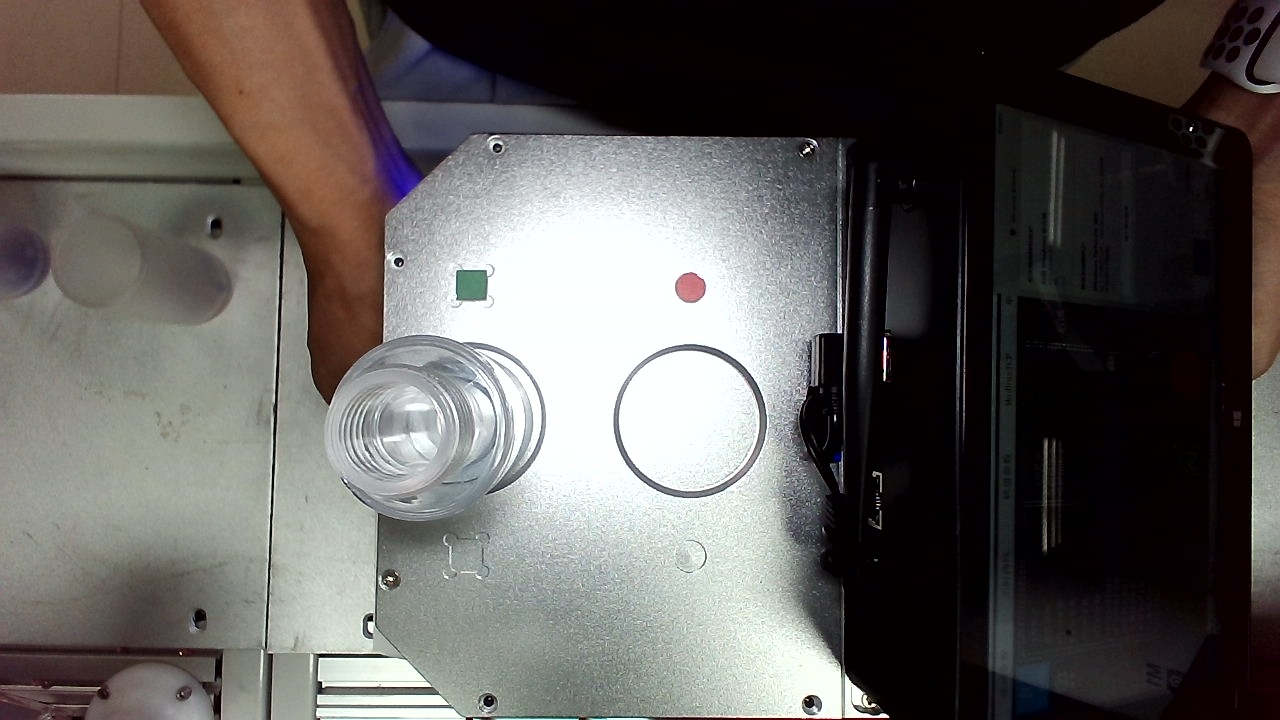bad: (254, 611, 307, 655), (285, 108, 336, 152), (772, 477, 823, 519), (836, 513, 882, 554), (259, 169, 306, 209), (695, 585, 736, 629), (817, 99, 857, 142), (618, 24, 659, 63), (529, 94, 570, 132), (365, 10, 404, 49), (836, 49, 874, 89), (798, 370, 839, 407), (269, 205, 313, 238), (501, 452, 538, 491), (804, 61, 840, 101), (258, 288, 295, 326), (780, 1, 816, 39), (771, 50, 807, 88), (715, 379, 751, 414), (260, 334, 295, 367), (529, 419, 564, 452), (777, 81, 810, 115)
pass: (551, 391, 596, 443), (576, 140, 615, 190), (261, 526, 304, 569), (818, 545, 863, 585), (686, 262, 726, 307), (263, 408, 306, 449), (287, 568, 330, 609), (515, 391, 554, 435), (435, 393, 476, 434), (806, 513, 845, 552), (566, 609, 604, 649), (649, 50, 685, 89), (780, 398, 819, 434), (687, 39, 722, 78), (536, 348, 571, 387), (773, 444, 809, 476)
toolong: (599, 361, 645, 433), (344, 39, 381, 100), (837, 228, 873, 290)
unpass: (830, 4, 874, 53), (582, 546, 626, 589), (796, 201, 841, 243), (451, 232, 491, 278), (794, 249, 838, 290), (498, 249, 540, 291), (845, 319, 882, 363), (277, 364, 319, 401), (827, 169, 867, 207), (408, 50, 445, 90), (537, 236, 576, 273), (660, 195, 698, 232), (696, 10, 733, 47), (766, 263, 801, 302), (826, 352, 863, 387), (652, 304, 686, 342), (802, 432, 839, 466), (846, 388, 883, 422), (654, 11, 683, 53)
